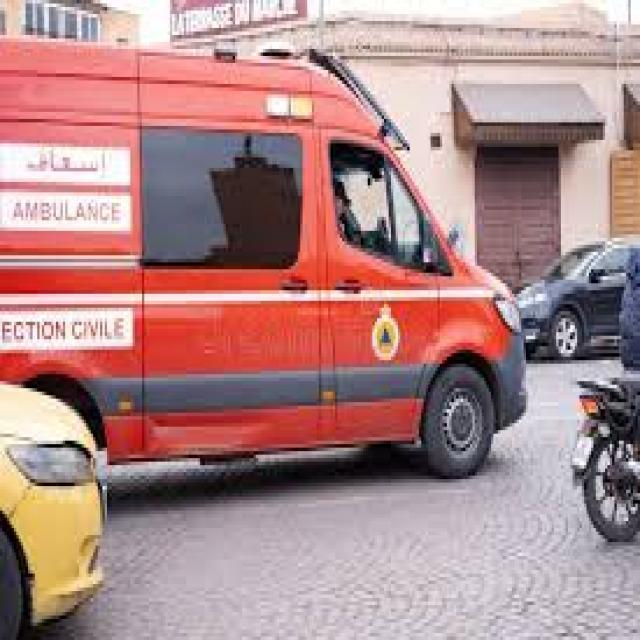ambulance: (0, 19, 537, 528)
